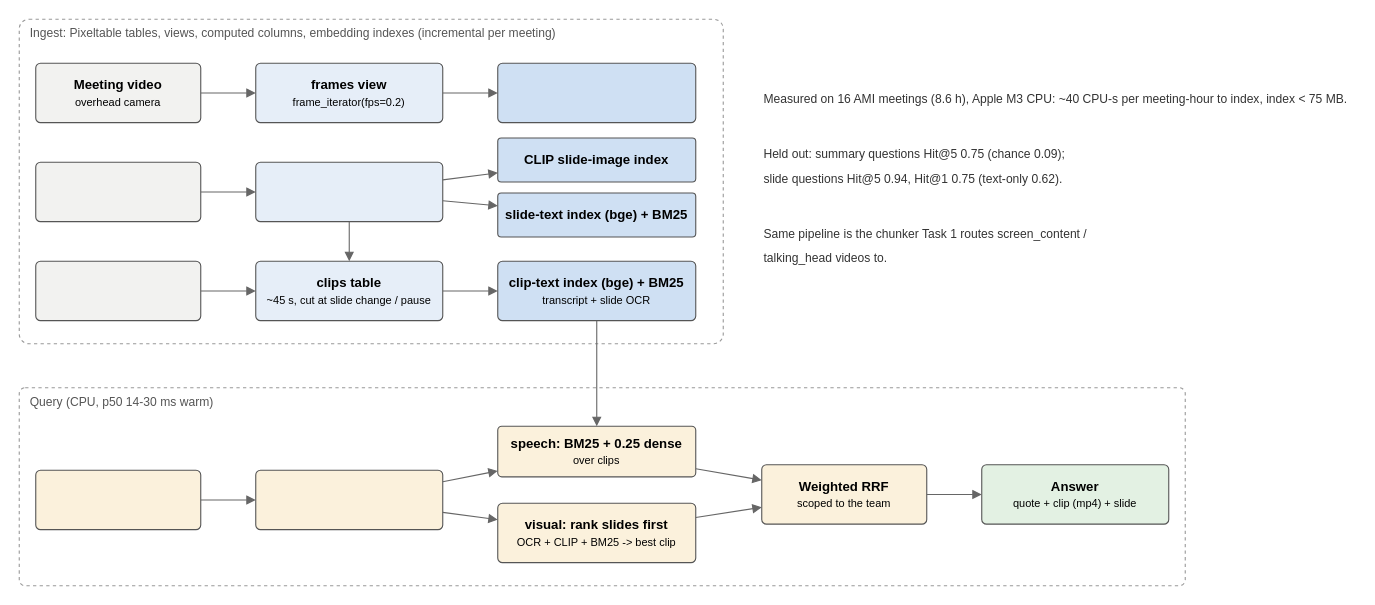
Some shapes in this 1375 by 605 pixel diagram are drawn without their labels. The centre of each missing label's shape, as x and y in pixels:
"CLIP frame index (measured: no value, weight 0)" goes at pixel 596 92.
"Intent router names an artifact? -> visual" goes at pixel 349 499.
"Question + team workspace" goes at pixel 118 499.
"Slide captures file name = on-screen time" goes at pixel 118 191.
"slides table image + OCR computed column" goes at pixel 349 191.
"Timed words + speakers AMI words (any ASR)" goes at pixel 118 290.
